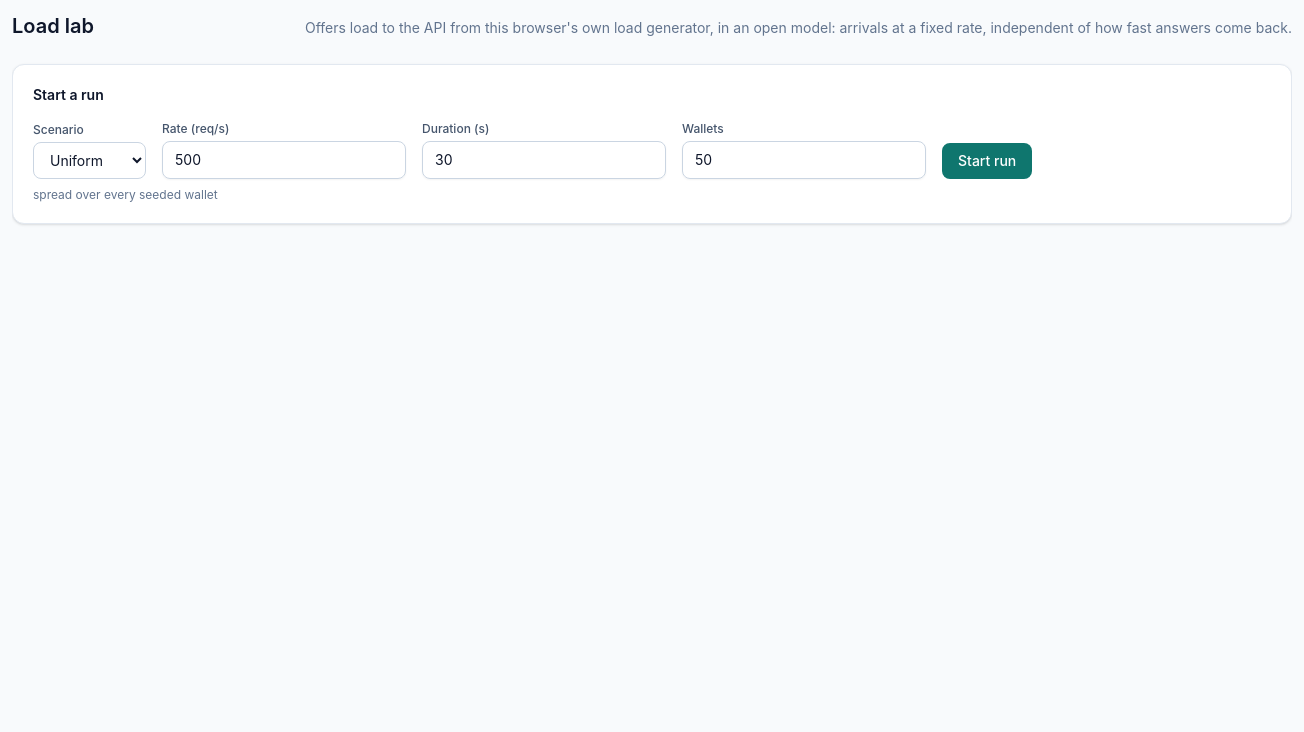
Test case: LoadLabPage › the result shows the verification
The image size is (1304, 732).
Replace the text in the field labelled "Duration (s)" with "5" at (544, 160), box 422,141 -> 666,179
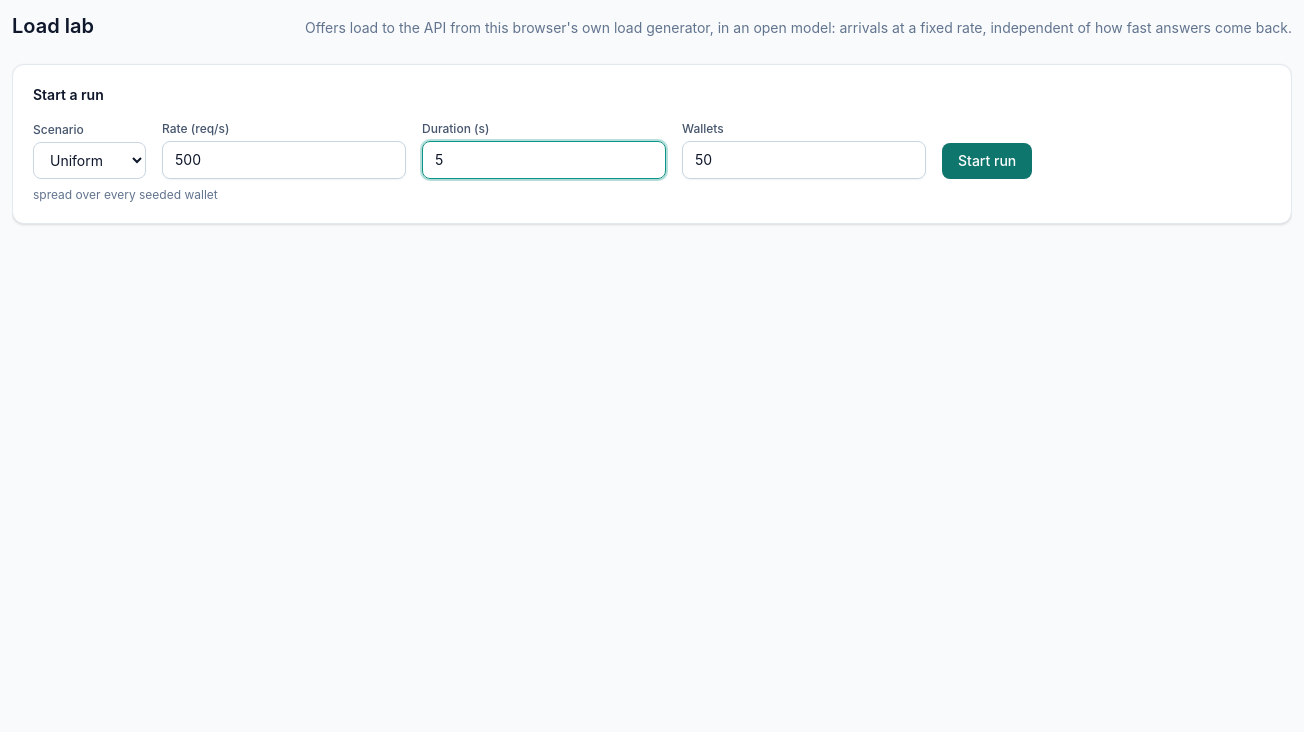
Click the button "Start run" at (987, 161), box 942,143 -> 1032,179
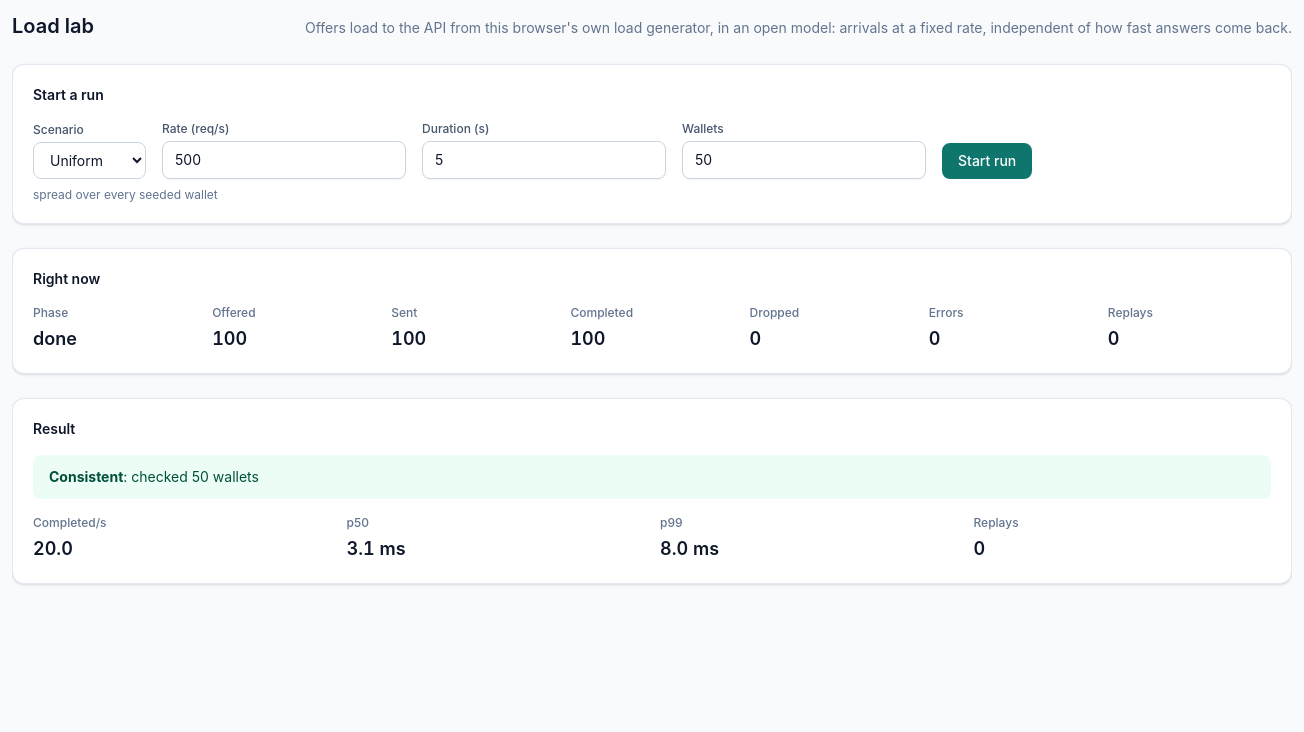
Check: the message named "Verification" shows "Consistent", box 49,468 -> 123,485
Check: the message named "Verification" shows "50 wallets", box 33,455 -> 1271,499
